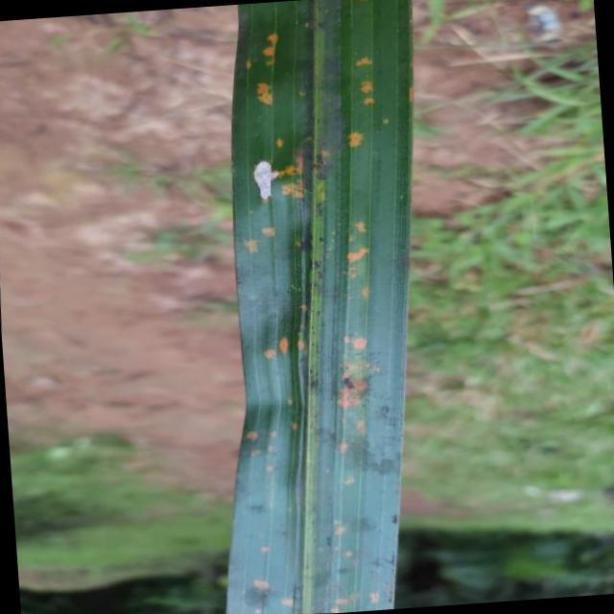Kalium: (232, 0, 414, 614)
